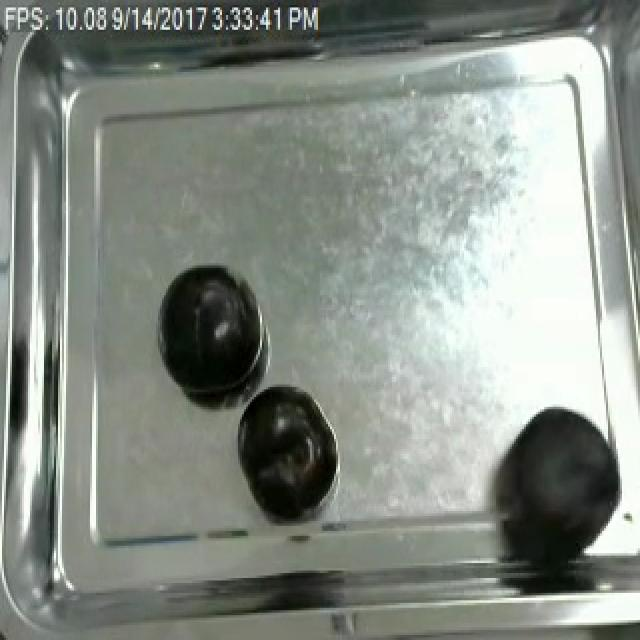Fruit: (482, 397, 632, 573), (156, 260, 260, 402), (234, 379, 338, 521)
